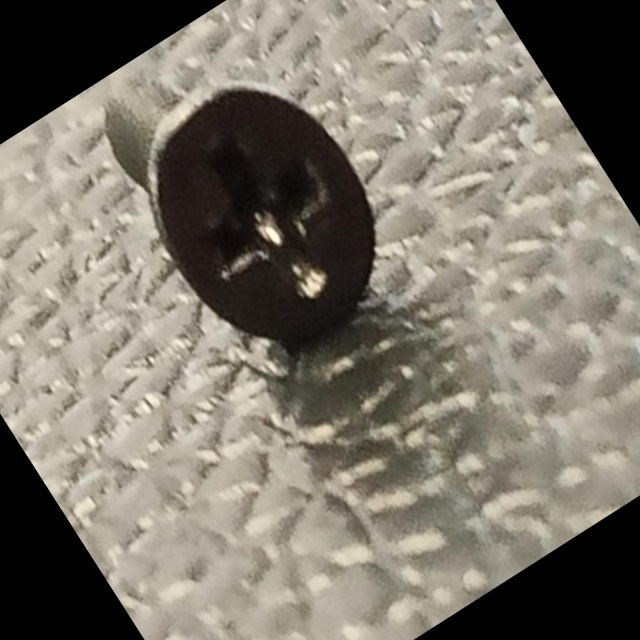phillips: (100, 39, 426, 388)
